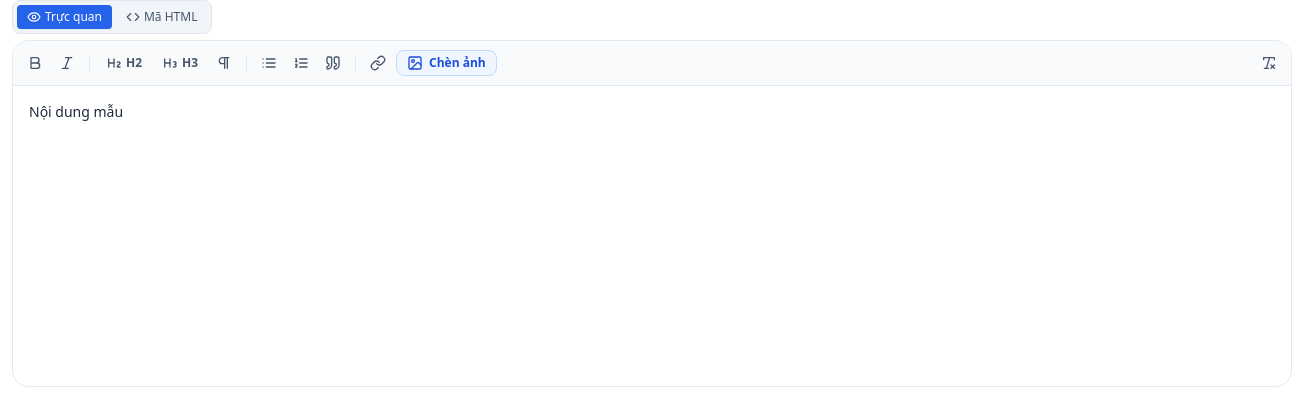
Test case: Editor & SEO Utilities (Task T111) › RichTextEditor Component › chuyển đổi qua lại giữa chế độ Trực quan và Mã HTML
Expected: the text box with test id "rich-editor-visual" is shown, [29,102,123,121]
Chuyển sang code mode
Click the button with test id "mode-code-btn".
click(162, 17)  # box [116,5,208,29]
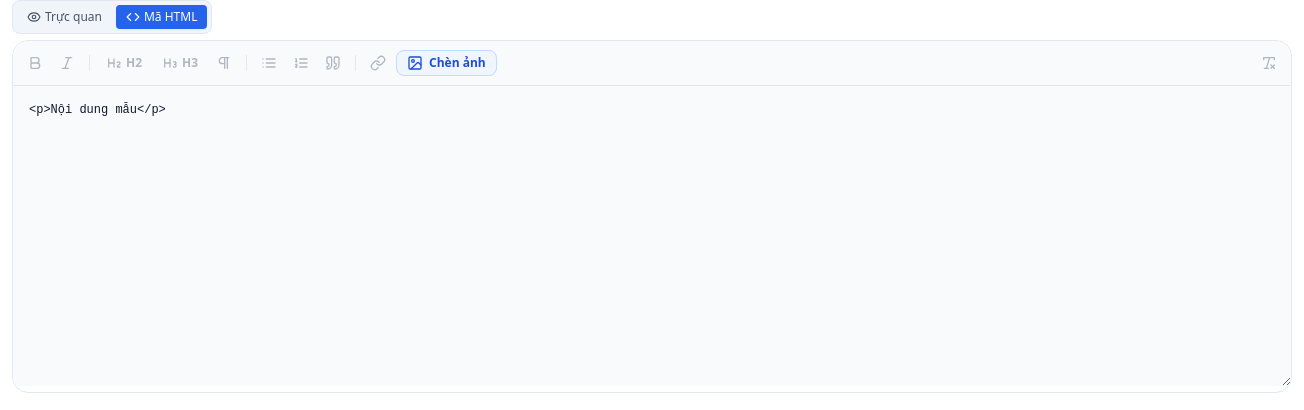
Result: the text box with test id "rich-editor-code" is shown
Result: the text box with test id "rich-editor-visual" is gone
Chuyển lại visual mode
Click the button with test id "mode-visual-btn".
click(64, 17)  # box [17,5,112,29]
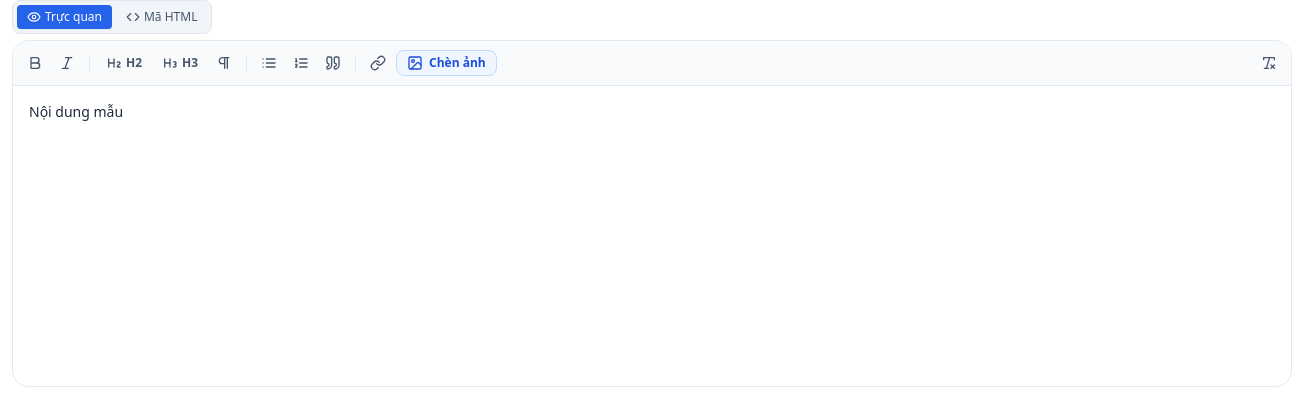
Result: the text box with test id "rich-editor-visual" is shown at [29,102,123,121]
